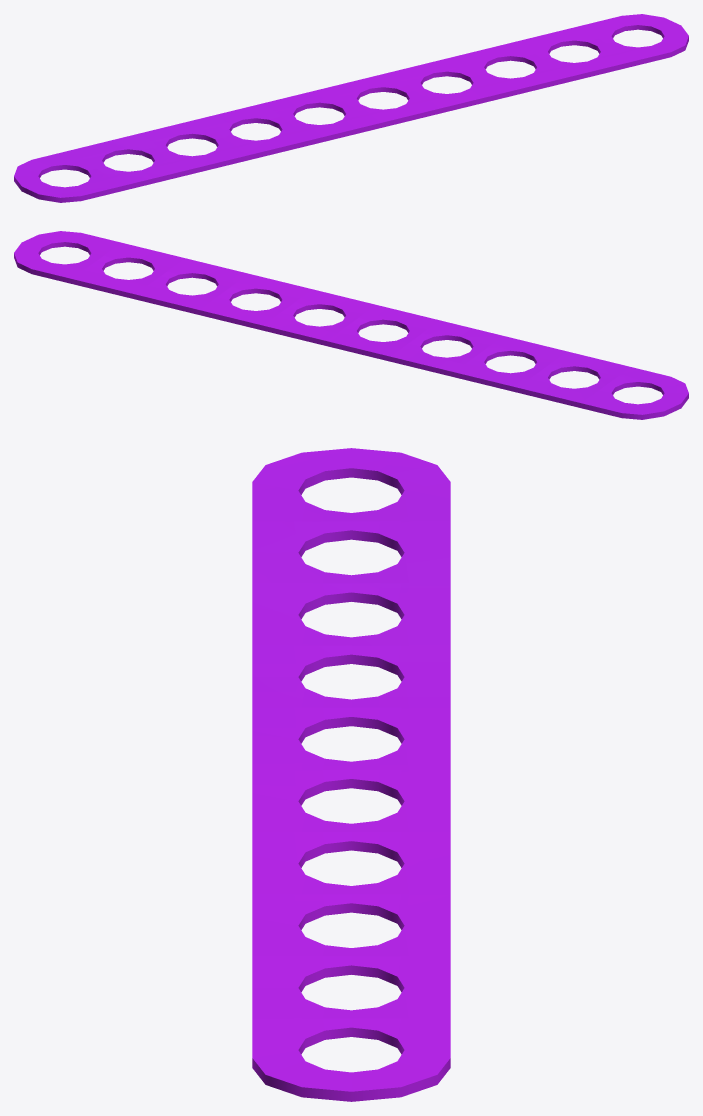
The model's file is TenLongPink.fbx.
3 renders of one model, top to bottom at view 1: azimuth 30°, elevation 25°; view 2: azimuth 150°, elevation 25°; view 3: azimuth 270°, elevation 25°, orthographic. The views are drawn at different scales.
Visible parts, largest first — view 1: Blue10; view 2: Blue10; view 3: Blue10.
Part boxes in pixels (x1=…): Blue10: x1=14, y1=14, x2=688, y2=202; Blue10: x1=14, y1=231, x2=688, y2=419; Blue10: x1=252, y1=448, x2=450, y2=1101.
Size of the model in its own units: 26.47 by 0.1942 by 3.45.
